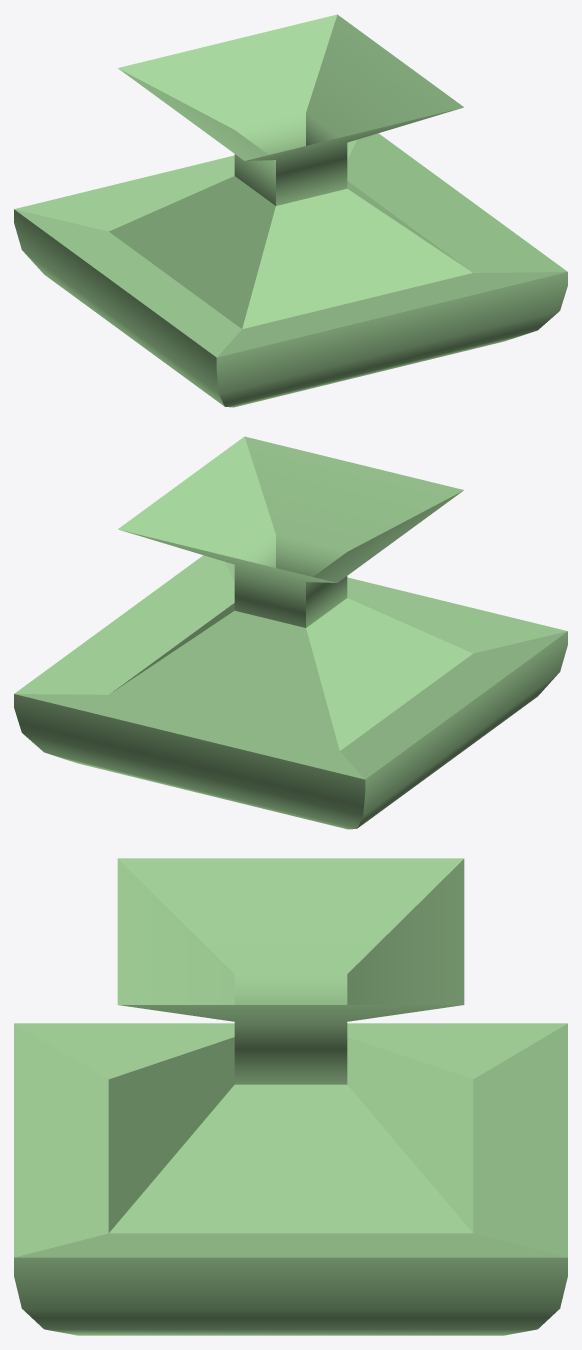
Rendered from GEN_Light03.fbx.
3 renders of one model, top to bottom at view 1: azimuth 30°, elevation 25°; view 2: azimuth 150°, elevation 25°; view 3: azimuth 270°, elevation 25°, orthographic. The views are drawn at different scales.
Visible parts, largest first — view 1: Lights03_Body; view 2: Lights03_Body; view 3: Lights03_Body.
Part boxes in pixels (box(x1,y1,x2,y2)): Lights03_Body: box(14, 14, 567, 407); Lights03_Body: box(14, 436, 567, 829); Lights03_Body: box(14, 858, 567, 1335).
Bounding box in the file's own units: 26.94 × 17.21 × 26.94.
